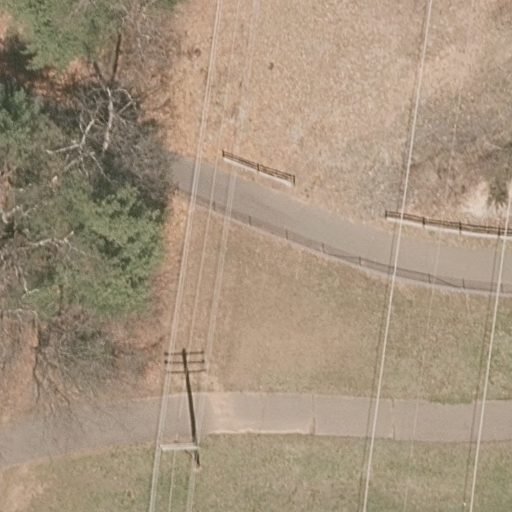DT: (156, 439, 204, 475)
